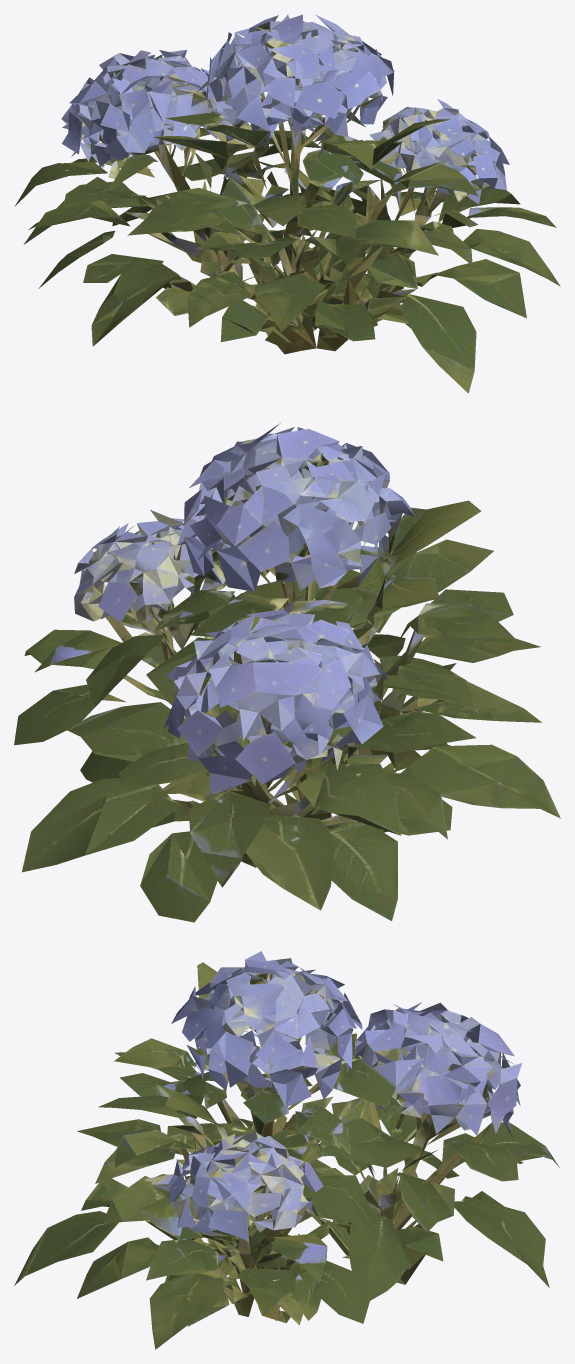
File: angular-common-nature-flowering-hydrangea-bush-cottage-normal.glb
3 views of the same model, one above another, from view 1: azimuth 30°, elevation 25°; view 2: azimuth 150°, elevation 25°; view 3: azimuth 270°, elevation 25° (orthographic). The views are drawn at different scales.
Parts seen in each view (by area): view 1: Mesh_0; view 2: Mesh_0; view 3: Mesh_0.
Part boxes in pixels (<box>): Mesh_0: <box>14,14,560,393</box>; Mesh_0: <box>14,423,560,922</box>; Mesh_0: <box>14,951,559,1349</box>.
Bounding box in the file's own units: 1.11 × 0.7854 × 1.2.
1 material, 1 textured.
